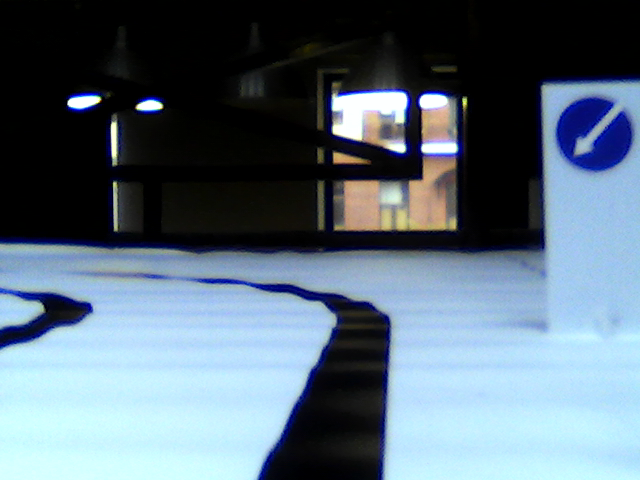prep: (556, 94, 631, 172)
